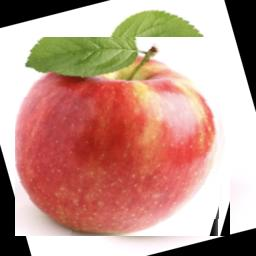Apple Fresh: (16, 37, 231, 236)
